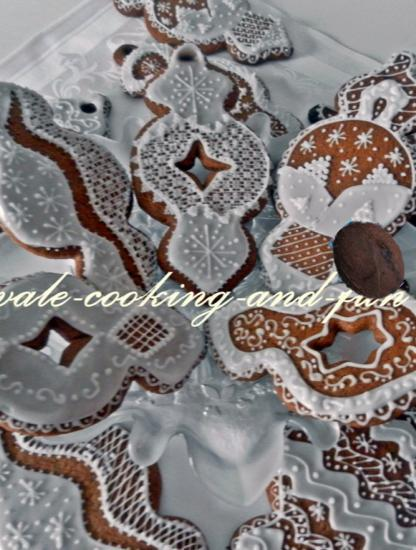Cocos: (326, 219, 410, 303)
